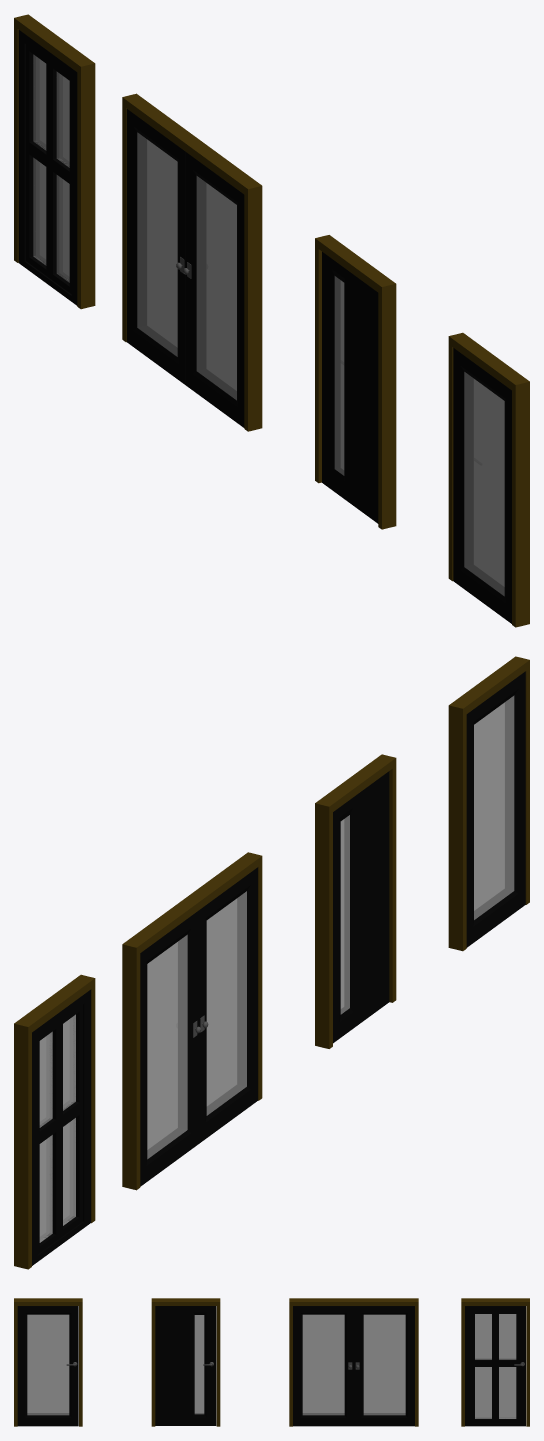
Rendered from CompleteDoor.fbx.
3 views of the same model, one above another, from view 1: azimuth 30°, elevation 25°; view 2: azimuth 150°, elevation 25°; view 3: azimuth 270°, elevation 25° (orthographic). The views are drawn at different scales.
Parts seen in each view (by area): view 1: Cube.016, Cube.012, Cube.014, Cube.008, Cube.002, Cube.011, Cube.001, Cube.009, Cube.007, Cube.003, Cube.005, Cube.004 (+1 smaller); view 2: Cube.012, Cube.014, Cube.016, Cube.008, Cube.002, Cube.011, Cube.001, Cube.009, Cube.007, Cube.005, Cube.003, Cube.006 (+1 smaller); view 3: Cube.012, Cube.008, Cube.014, Cube.016, Cube.002, Cube.011, Cube.001, Cube.007, Cube.009, Cube.005, Cube.003, Cube.006 (+1 smaller).
Boxes of the visible parts, <box> form: Cube.016: <box>126,109,185,385</box>; Cube.012: <box>453,348,511,623</box>; Cube.014: <box>186,152,244,427</box>; Cube.008: <box>322,252,378,523</box>; Cube.002: <box>18,30,77,305</box>; Cube.011: <box>122,93,262,431</box>; Cube.001: <box>315,235,396,529</box>; Cube.009: <box>448,332,529,627</box>; Cube.007: <box>14,14,95,309</box>; Cube.003: <box>56,175,69,282</box>; Cube.005: <box>33,157,46,265</box>; Cube.004: <box>56,71,69,167</box>; Cube.012: <box>466,671,525,947</box>; Cube.014: <box>198,867,257,1143</box>; Cube.016: <box>140,911,198,1186</box>; Cube.008: <box>333,771,389,1043</box>; Cube.002: <box>32,989,90,1265</box>; Cube.011: <box>122,852,262,1190</box>; Cube.001: <box>315,754,396,1048</box>; Cube.009: <box>448,656,529,951</box>; Cube.007: <box>14,974,95,1269</box>; Cube.005: <box>39,1135,52,1242</box>; Cube.003: <box>63,1118,75,1225</box>; Cube.006: <box>39,1031,52,1127</box>; Cube.012: <box>17,1306,78,1426</box>; Cube.008: <box>155,1306,216,1425</box>; Cube.014: <box>293,1306,353,1426</box>; Cube.016: <box>354,1306,414,1426</box>; Cube.002: <box>465,1306,525,1426</box>; Cube.011: <box>289,1298,418,1426</box>; Cube.001: <box>151,1298,220,1426</box>; Cube.007: <box>461,1298,529,1426</box>; Cube.009: <box>14,1298,82,1426</box>; Cube.005: <box>499,1367,516,1418</box>; Cube.003: <box>475,1367,491,1418</box>; Cube.006: <box>499,1314,516,1359</box>.
Bounding box in the file's own units: 40.88 × 400 × 1500.
